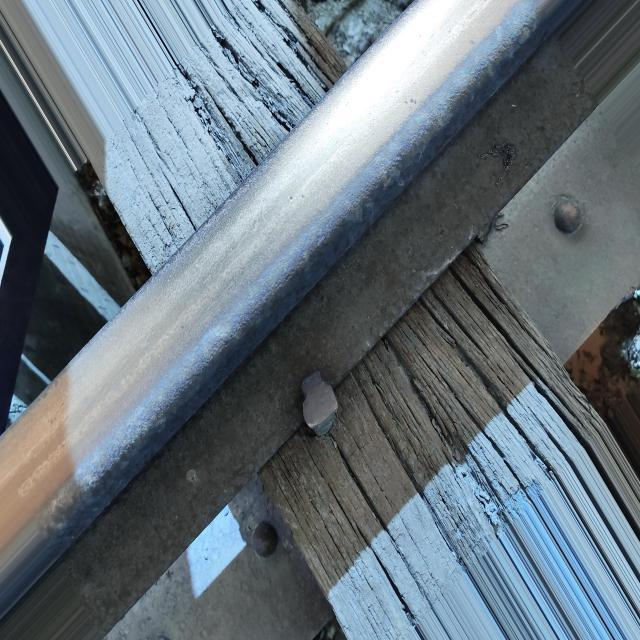Good Fasteners: (302, 372, 338, 436)
